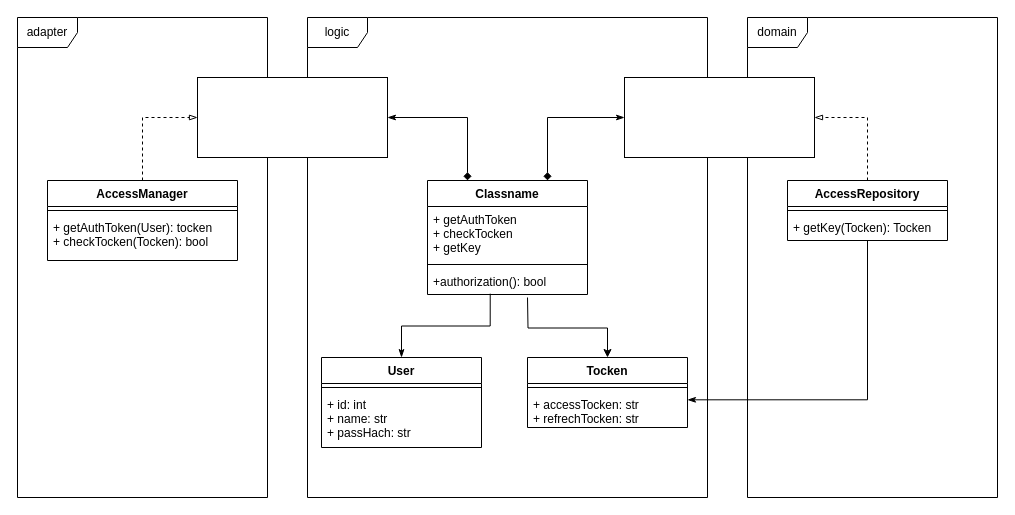
This 1015x515 diagram has some shape labels left out. Each missing label, with the centre of its shape:
<<Interface>> iAccessManager + getAuthToken(User) + checkTocken(Tocken): the point at 292,117
<<Interface>> iAccessRepo + getKey(Tocken): the point at 719,117
